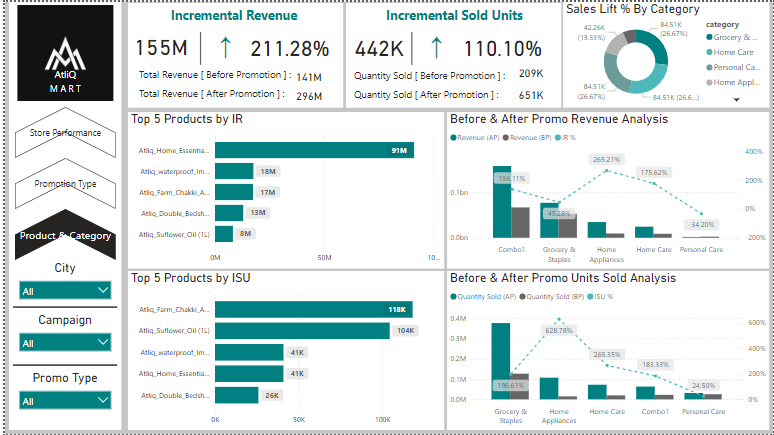

The dashboard page shown, as its layout file describes it:
{"tool":"powerbi","page":{"name":"Product & Category","canvas":[1280,720],"ordinal":2},"visuals":[{"type":"group","id":"g1","title":"Group 1","box":[7.2,0,187.2,712.8],"z":0},{"type":"shape","box":[7.2,0,187.2,712.8],"z":0,"group":"g1"},{"type":"shape","box":[204.5,1.4,358.6,174.2],"z":0,"group":"g4"},{"type":"shape","box":[568,1.4,358.6,174.2],"z":0,"group":"g3"},{"type":"image","box":[7.2,0,187.2,170.1],"z":1000,"group":"g1"},{"type":"group","id":"g2","title":"Group 4","box":[204.5,1.4,358.6,174.2],"z":1000},{"type":"card","fields":{"Values":["fact_events.IR %"]},"box":[749.9,41.3,157.8,64.9],"z":1000,"group":"g3"},{"type":"group","id":"g3","title":"Group 5","box":[568,1.4,358.6,174.2],"z":2000},{"type":"card","fields":{"Values":["fact_events.ISU Arrow"]},"box":[683,40,72,59],"z":2000,"group":"g3"},{"type":"textbox","box":[7.2,105.4,187.2,32.3],"z":2000,"group":"g1"},{"type":"donutChart","title":"Sales Lift % By Category","fields":{"Y":["Sum(fact_events.change %)"],"Category":["dim_products.category"]},"box":[930.2,0,344.2,175.7],"z":2001},{"type":"lineClusteredColumnComboChart","title":"Before & After Promo Revenue Analysis","fields":{"Category":["dim_products.category"],"Y":["fact_events.Revenue (AP)","fact_events.Revenue (BP)"],"Y2":["fact_events.IR %"]},"box":[737.3,182.9,537.1,260.6],"z":2002},{"type":"lineClusteredColumnComboChart","title":"Before & After Promo Units Sold Analysis","fields":{"Category":["dim_products.category"],"Y":["Sum(fact_events.Quantity Sold (AP))","Sum(fact_events.quantity_sold(before_promo))"],"Y2":["fact_events.ISU %"]},"box":[737.3,447.8,537.1,265],"z":2003},{"type":"barChart","title":"Top 5 Products by IR","fields":{"Category":["dim_products.product_name"],"Y":["fact_events.Total_IR"]},"box":[204.5,182.9,527,260.6],"z":2004},{"type":"barChart","title":"Top 5 Products by ISU","fields":{"Category":["dim_products.product_name"],"Y":["fact_events.Total_ISU"]},"box":[204.5,447.8,527,265],"z":2005},{"type":"card","fields":{"Values":["fact_events.Total_ISU"]},"box":[568.5,41.3,110.6,64.9],"z":3000,"group":"g3"},{"type":"textbox","box":[7.2,127.9,187.2,42.2],"z":3000,"group":"g1"},{"type":"textbox","box":[576.5,105.9,275,36],"z":4000,"group":"g3"},{"type":"slicer","title":"City","fields":{"Values":["dim_stores.city"]},"box":[14,431.6,173.5,87.2],"z":4000,"group":"g1"},{"type":"textbox","box":[576.5,137.6,267.8,37.4],"z":5000,"group":"g3"},{"type":"slicer","title":"Promo Type","fields":{"Values":["fact_events.promo_type"]},"box":[14,615.8,173.5,87.2],"z":5000,"group":"g1"},{"type":"card","fields":{"Values":["fact_events.Total_IR"]},"box":[204.5,40.3,109.4,64.8],"z":6000,"group":"g4"},{"type":"card","fields":{"Values":["Sum(fact_events.quantity_sold(before_promo))"]},"box":[844.3,104.7,63.4,29.5],"z":6000,"group":"g3"},{"type":"slicer","title":"Campaign","fields":{"Values":["dim_campaigns.campaign_name"]},"box":[14,518.8,173.5,87.2],"z":6000,"group":"g1"},{"type":"card","fields":{"Values":["Sum(fact_events.Quantity Sold (AP))"]},"box":[844.3,140.1,63.4,31],"z":7000,"group":"g3"},{"type":"shape","box":[14,486.4,173.5,43.6],"z":7000,"group":"g1"},{"type":"textbox","box":[593.6,1.4,311.2,39.8],"z":8000,"group":"g3"},{"type":"pageNavigator","box":[16.8,175.7,168.1,255.9],"z":8000,"group":"g1"},{"type":"card","fields":{"Values":["fact_events.ISU %"]},"box":[393.1,41.7,162.7,64.8],"z":9000,"group":"g4"},{"type":"shape","box":[657,50.1,42.8,54.6],"z":9000,"group":"g3"},{"type":"shape","box":[14,583.5,173.5,43.6],"z":9000,"group":"g1"},{"type":"textbox","box":[217.1,104,274.3,35.4],"z":10000,"group":"g4"},{"type":"card","fields":{"Values":["Sum(fact_events.Total_Revenue (BP))"]},"box":[476.7,106.5,59,37.4],"z":11000,"group":"g4"},{"type":"textbox","box":[217.1,136.4,266.9,32.4],"z":12000,"group":"g4"},{"type":"group","id":"g4","title":"Group 2","box":[204.5,1.4,358.6,174.2],"z":13000,"group":"g2"},{"type":"card","fields":{"Values":["Sum(fact_events.Total_Revenue (AP))"]},"box":[475.2,138.2,63.4,37.4],"z":13000,"group":"g4"},{"type":"textbox","box":[216,1.4,329.8,40.3],"z":18000,"group":"g4"},{"type":"shape","box":[303.9,50.4,41.8,54.7],"z":19001,"group":"g4"},{"type":"card","fields":{"Values":["Min(fact_events.IR Arrow)"]},"box":[330.5,40,72,59],"z":19003,"group":"g2"}]}

Visuals, with their boxes in screenshot pixels (x1, y1, x2, y2), scaled from the page's 1280x720 canvas onto the 774x435 screenshot:
"Group 1" group: <box>4,0,118,431</box>
shape: <box>4,0,118,431</box>
shape: <box>124,1,340,106</box>
shape: <box>343,1,560,106</box>
image: <box>4,0,118,103</box>
"Group 4" group: <box>124,1,340,106</box>
card - fact_events.IR %: <box>453,25,549,64</box>
"Group 5" group: <box>343,1,560,106</box>
card - fact_events.ISU Arrow: <box>413,24,457,60</box>
textbox: <box>4,64,118,83</box>
"Sales Lift % By Category" donutChart: <box>562,0,771,106</box>
"Before & After Promo Revenue Analysis" lineClusteredColumnComboChart: <box>446,111,771,268</box>
"Before & After Promo Units Sold Analysis" lineClusteredColumnComboChart: <box>446,271,771,431</box>
"Top 5 Products by IR" barChart: <box>124,111,442,268</box>
"Top 5 Products by ISU" barChart: <box>124,271,442,431</box>
card - fact_events.Total_ISU: <box>344,25,411,64</box>
textbox: <box>4,77,118,103</box>
textbox: <box>349,64,515,86</box>
"City" slicer: <box>8,261,113,313</box>
textbox: <box>349,83,511,106</box>
"Promo Type" slicer: <box>8,372,113,425</box>
card - fact_events.Total_IR: <box>124,24,190,63</box>
card - Sum(fact_events.quantity_sold(before_promo)): <box>511,63,549,81</box>
"Campaign" slicer: <box>8,313,113,366</box>
card - Sum(fact_events.Quantity Sold (AP)): <box>511,85,549,103</box>
shape: <box>8,294,113,320</box>
textbox: <box>359,1,547,25</box>
pageNavigator: <box>10,106,112,261</box>
card - fact_events.ISU %: <box>238,25,336,64</box>
shape: <box>397,30,423,63</box>
shape: <box>8,353,113,379</box>
textbox: <box>131,63,297,84</box>
card - Sum(fact_events.Total_Revenue (BP)): <box>288,64,324,87</box>
textbox: <box>131,82,293,102</box>
"Group 2" group: <box>124,1,340,106</box>
card - Sum(fact_events.Total_Revenue (AP)): <box>287,83,326,106</box>
textbox: <box>131,1,330,25</box>
shape: <box>184,30,209,63</box>
card - Min(fact_events.IR Arrow): <box>200,24,243,60</box>
